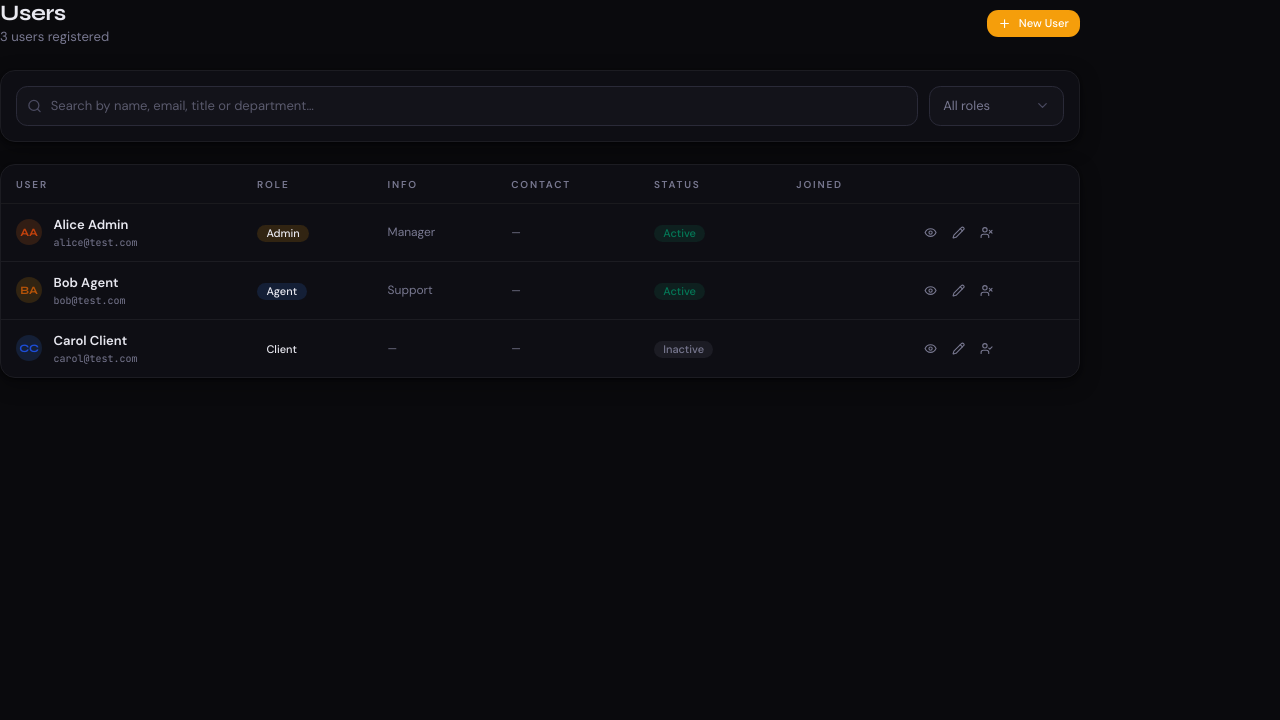
Test: UsersPage — edit modal › edit modal has 'Save Changes'
The width and height of the screenshot is (1280, 720).
What coordinates should you click on to do the following:
click the button titled "Edit" in the row of "AA"
I would click on:
 (958, 232)
Its box is [946,220,970,244].
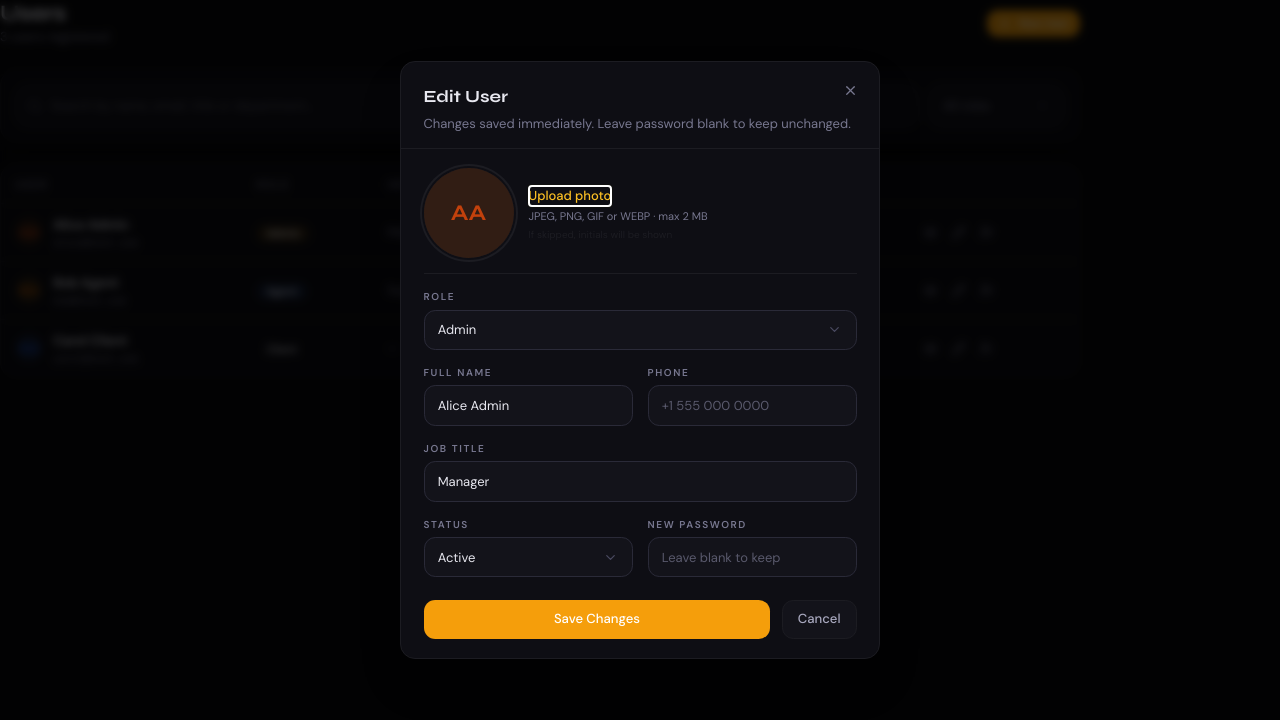
Expected: the button "Save Changes" is shown, [424,600,770,639]
